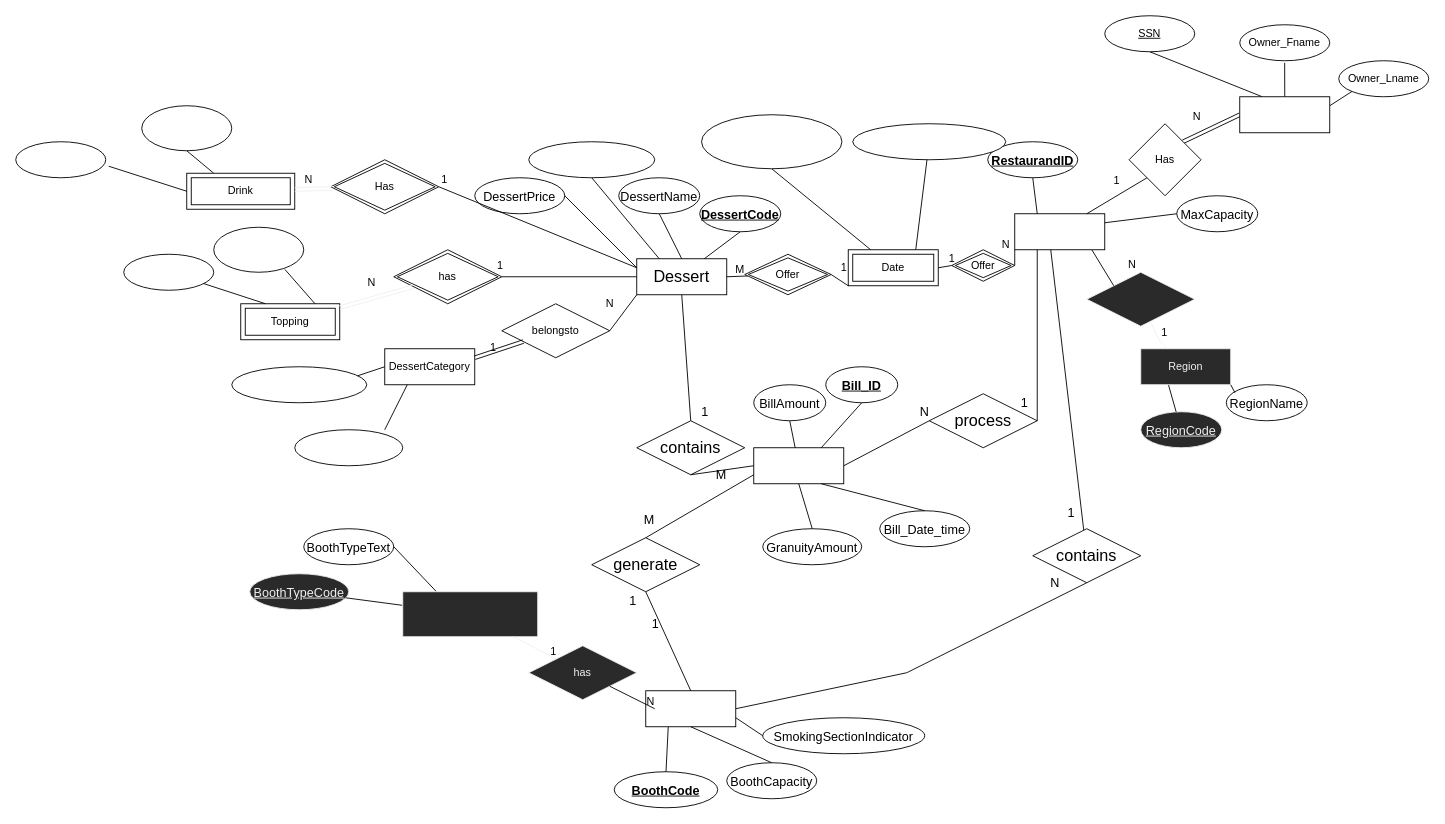
This 1445x824 diagram has some shape labels left out. The centre of each missing label's shape, as x and y in pixels:
Bill: the point at 798,465
Booth: the point at 690,708
BoothType: the point at 470,614
DessertCategoryID: the point at 348,447
DessertCategoryName: the point at 299,384
DessertDescription: the point at 591,159
DessertOfferedDateEnd: the point at 929,141
DessertOfferedDateStart: the point at 771,141
DrinkID: the point at 60,159
DrinkName: the point at 186,128
Is_In: the point at 1140,298
Owner: the point at 1284,114
Restaurant: the point at 1059,231
ToppingID: the point at 168,271
ToppingName: the point at 258,249
